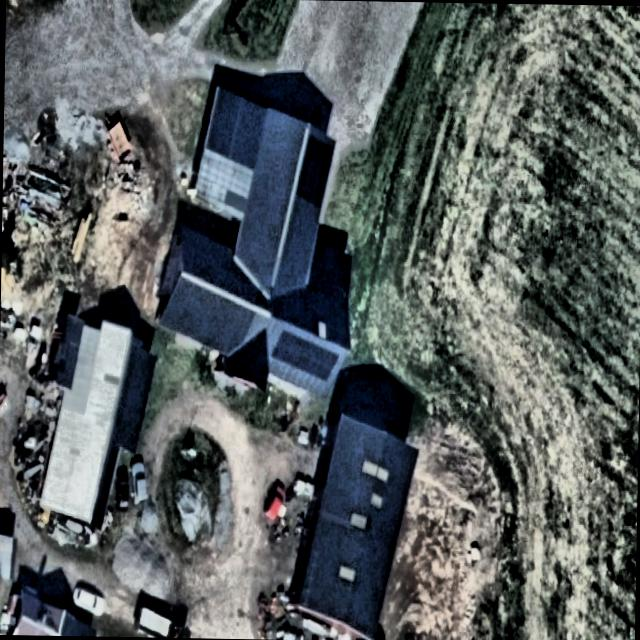roof_pv: (272, 329, 340, 384), (296, 127, 338, 215)
